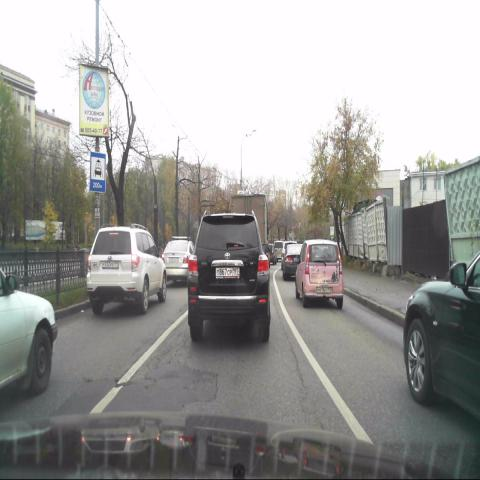7_5: (90, 151, 106, 193)
